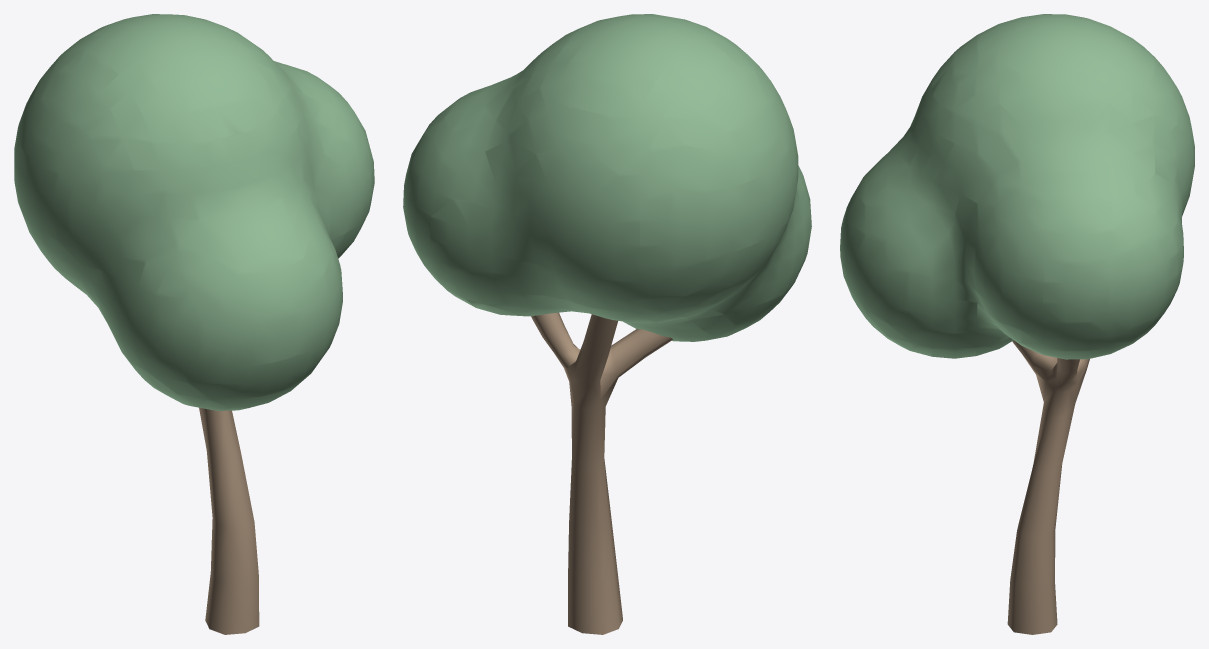
The model's file is tree-pine.glb.
The picture shows the model from 3 angles, left to right: view 1: azimuth 30°, elevation 25°; view 2: azimuth 150°, elevation 25°; view 3: azimuth 270°, elevation 25°; orthographic projection. The views are drawn at different scales.
Parts seen in each view (by area): view 1: Tree_1; view 2: Tree_1; view 3: Tree_1.
Boxes of the visible parts, x1=… form: Tree_1: x1=14, y1=14, x2=374, y2=634; Tree_1: x1=403, y1=14, x2=811, y2=634; Tree_1: x1=840, y1=14, x2=1194, y2=634.
Size of the model in its own units: 3.44 by 5.86 by 3.31.
